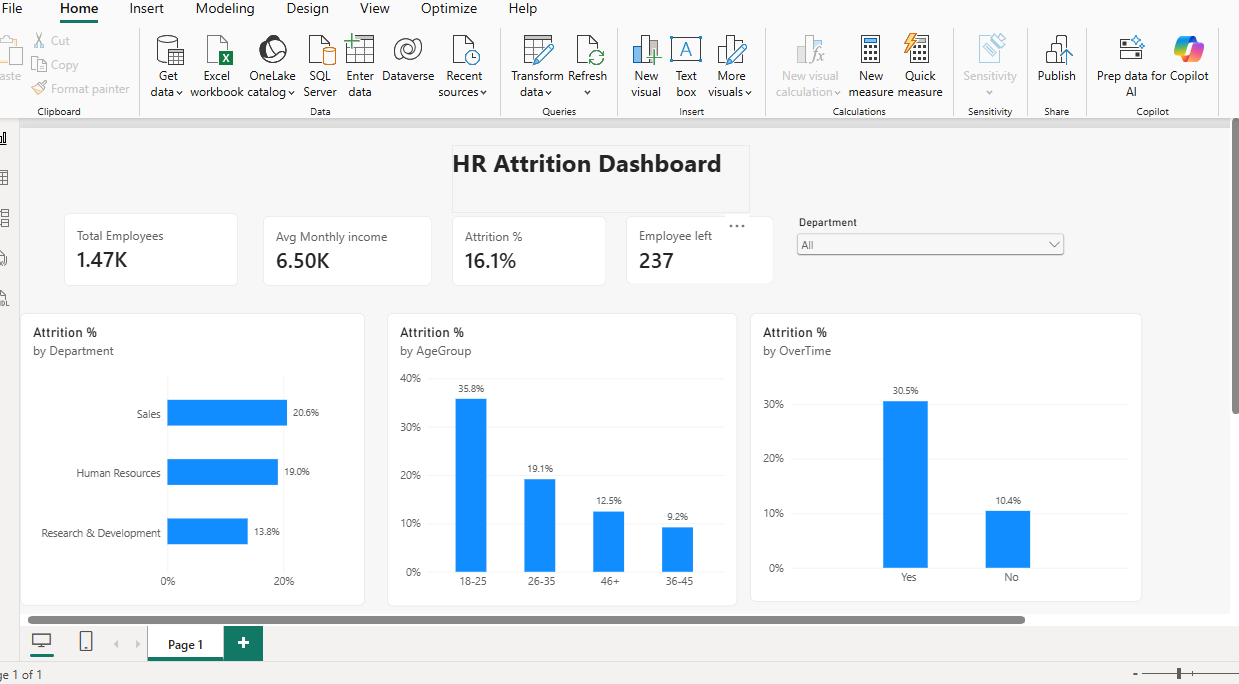

Layout of this report page (visuals, bound fields, positions):
{"tool":"powerbi","page":{"name":"Page 1","canvas":[1920,1080],"ordinal":0},"visuals":[{"type":"cardVisual","title":"Total Employees","fields":{"Data":["CountNonNull(Data.EmployeeNumber)"]},"box":[8.6,17.3,229.6,96.3],"z":0},{"type":"cardVisual","fields":{"Data":["Sum(Data.AttritionFlag)"]},"box":[703.7,17.3,201.4,95.8],"z":1000},{"type":"cardVisual","fields":{"Data":["Avg(Data.MonthlyIncome)"]},"box":[251.9,21,222.2,92.6],"z":2000},{"type":"clusteredBarChart","fields":{"Category":["Data.Department"],"Y":["Data.Attrition %"]},"box":[11.5,159.6,453.8,384.6],"z":3000},{"type":"clusteredColumnChart","fields":{"Category":["Data.AgeGroup"],"Y":["Data.Attrition %"]},"box":[486.4,166.7,434.6,385.2],"z":4000},{"type":"clusteredColumnChart","fields":{"Category":["Data.OverTime"],"Y":["Data.Attrition %"]},"box":[959.6,159.6,476.9,380.8],"z":5000},{"type":"cardVisual","fields":{"Data":["Data.Attrition %"]},"box":[486.4,17.3,208.3,95.8],"z":5001},{"type":"slicer","fields":{"Values":["Data.Department"]},"box":[944.4,17.3,361.5,101.9],"z":5002}]}

Visuals, with their boxes on the page's 1920x1080 design canvas (x1, y1, x2, y2). These are canvas units, not pixel positions in the 1239x684 screenshot, which may show the page scaled, cropped or inside an application window:
"Total Employees" cardVisual: (9,17,238,114)
cardVisual - Sum(Data.AttritionFlag): (704,17,905,113)
cardVisual - Avg(Data.MonthlyIncome): (252,21,474,114)
clusteredBarChart - Data.Department x Data.Attrition %: (12,160,465,544)
clusteredColumnChart - Data.AgeGroup x Data.Attrition %: (486,167,921,552)
clusteredColumnChart - Data.OverTime x Data.Attrition %: (960,160,1436,540)
cardVisual - Data.Attrition %: (486,17,695,113)
slicer - Data.Department: (944,17,1306,119)
